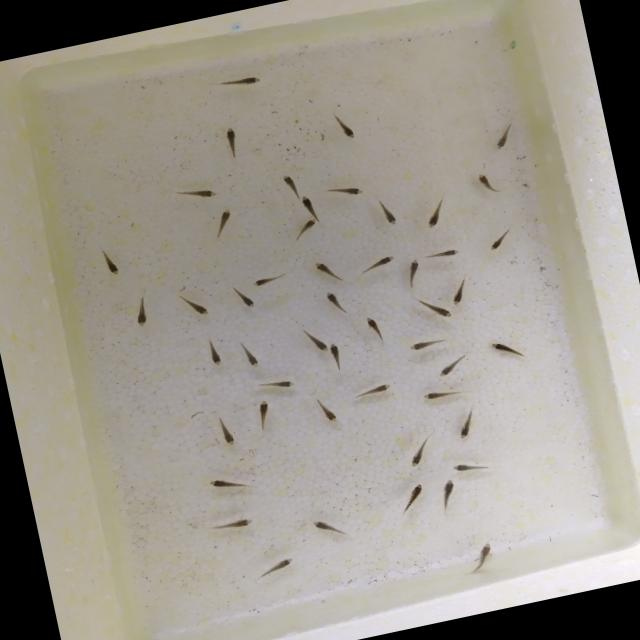fingerling: (257, 548, 304, 582), (201, 468, 247, 498), (443, 274, 478, 310), (360, 248, 405, 276), (208, 202, 240, 240), (214, 511, 258, 536), (258, 372, 300, 398), (469, 533, 503, 565), (422, 294, 456, 326), (182, 180, 223, 206), (235, 340, 268, 372), (308, 254, 341, 286), (356, 376, 398, 401), (404, 334, 450, 356), (412, 385, 462, 405), (303, 512, 341, 538), (213, 415, 240, 451), (416, 205, 452, 232), (218, 122, 244, 159), (218, 70, 266, 90), (435, 474, 463, 508), (466, 165, 496, 196), (400, 480, 430, 510), (490, 126, 520, 156), (453, 412, 481, 444), (304, 330, 336, 358), (484, 226, 514, 254), (234, 286, 264, 314), (294, 192, 324, 220), (447, 458, 485, 480), (334, 180, 372, 202), (400, 254, 426, 285), (484, 334, 516, 359), (317, 396, 341, 428), (424, 243, 462, 263), (378, 198, 400, 232), (403, 443, 431, 469), (186, 294, 212, 322), (434, 358, 468, 379), (252, 395, 275, 426), (362, 312, 386, 341), (332, 116, 358, 142), (293, 215, 322, 238), (324, 286, 346, 314), (100, 252, 122, 280), (280, 170, 300, 200), (206, 341, 224, 373), (250, 272, 280, 290), (328, 341, 346, 366), (132, 303, 150, 328)
